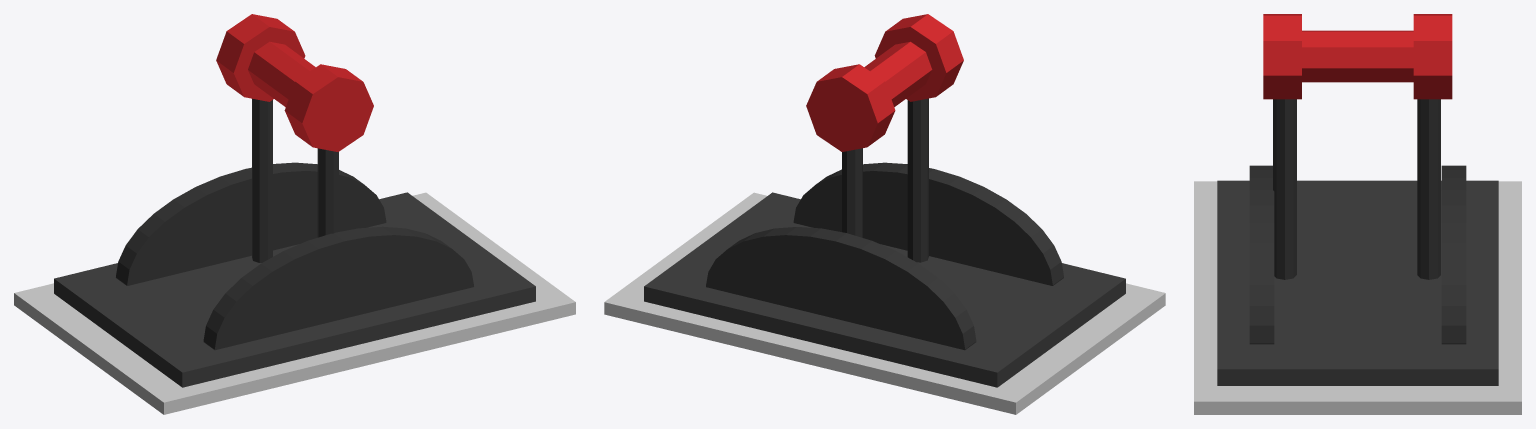
The model's file is warp-drive-lever.fbx.
3 renders of one model, left to right at view 1: azimuth 30°, elevation 25°; view 2: azimuth 150°, elevation 25°; view 3: azimuth 270°, elevation 25°, orthographic. The views are drawn at different scales.
Parts seen in each view (by area): view 1: HandleBorder, Frontplate, Backplate, Handle; view 2: HandleBorder, Frontplate, Backplate, Handle; view 3: Frontplate, Handle, Backplate, HandleBorder.
Part boxes in pixels (<box>): HandleBorder: <box>116,162,473,350</box>; Frontplate: <box>54,192,535,387</box>; Backplate: <box>14,192,575,414</box>; Handle: <box>216,14,373,262</box>; HandleBorder: <box>706,162,1063,350</box>; Frontplate: <box>644,192,1125,387</box>; Backplate: <box>604,192,1165,414</box>; Handle: <box>806,14,963,262</box>; Frontplate: <box>1217,180,1498,385</box>; Handle: <box>1263,14,1452,279</box>; Backplate: <box>1194,181,1521,414</box>; HandleBorder: <box>1249,165,1466,344</box>.
Size of the model in its own units: 318 by 195 by 200.
